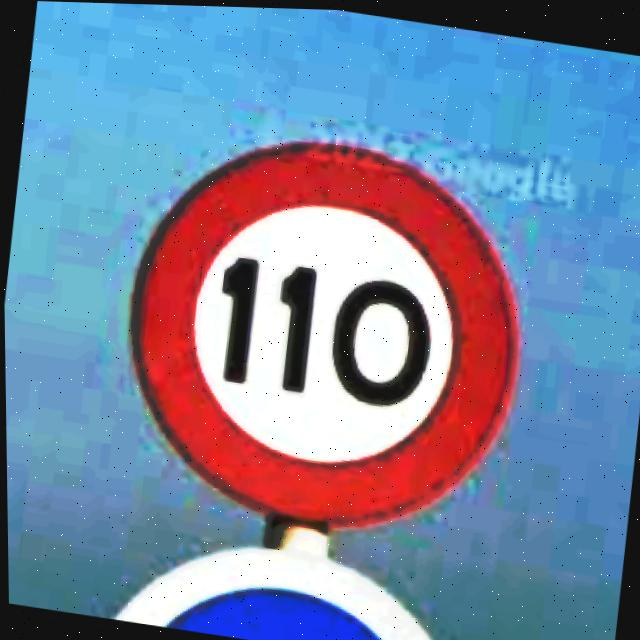max110: (102, 106, 541, 549)
